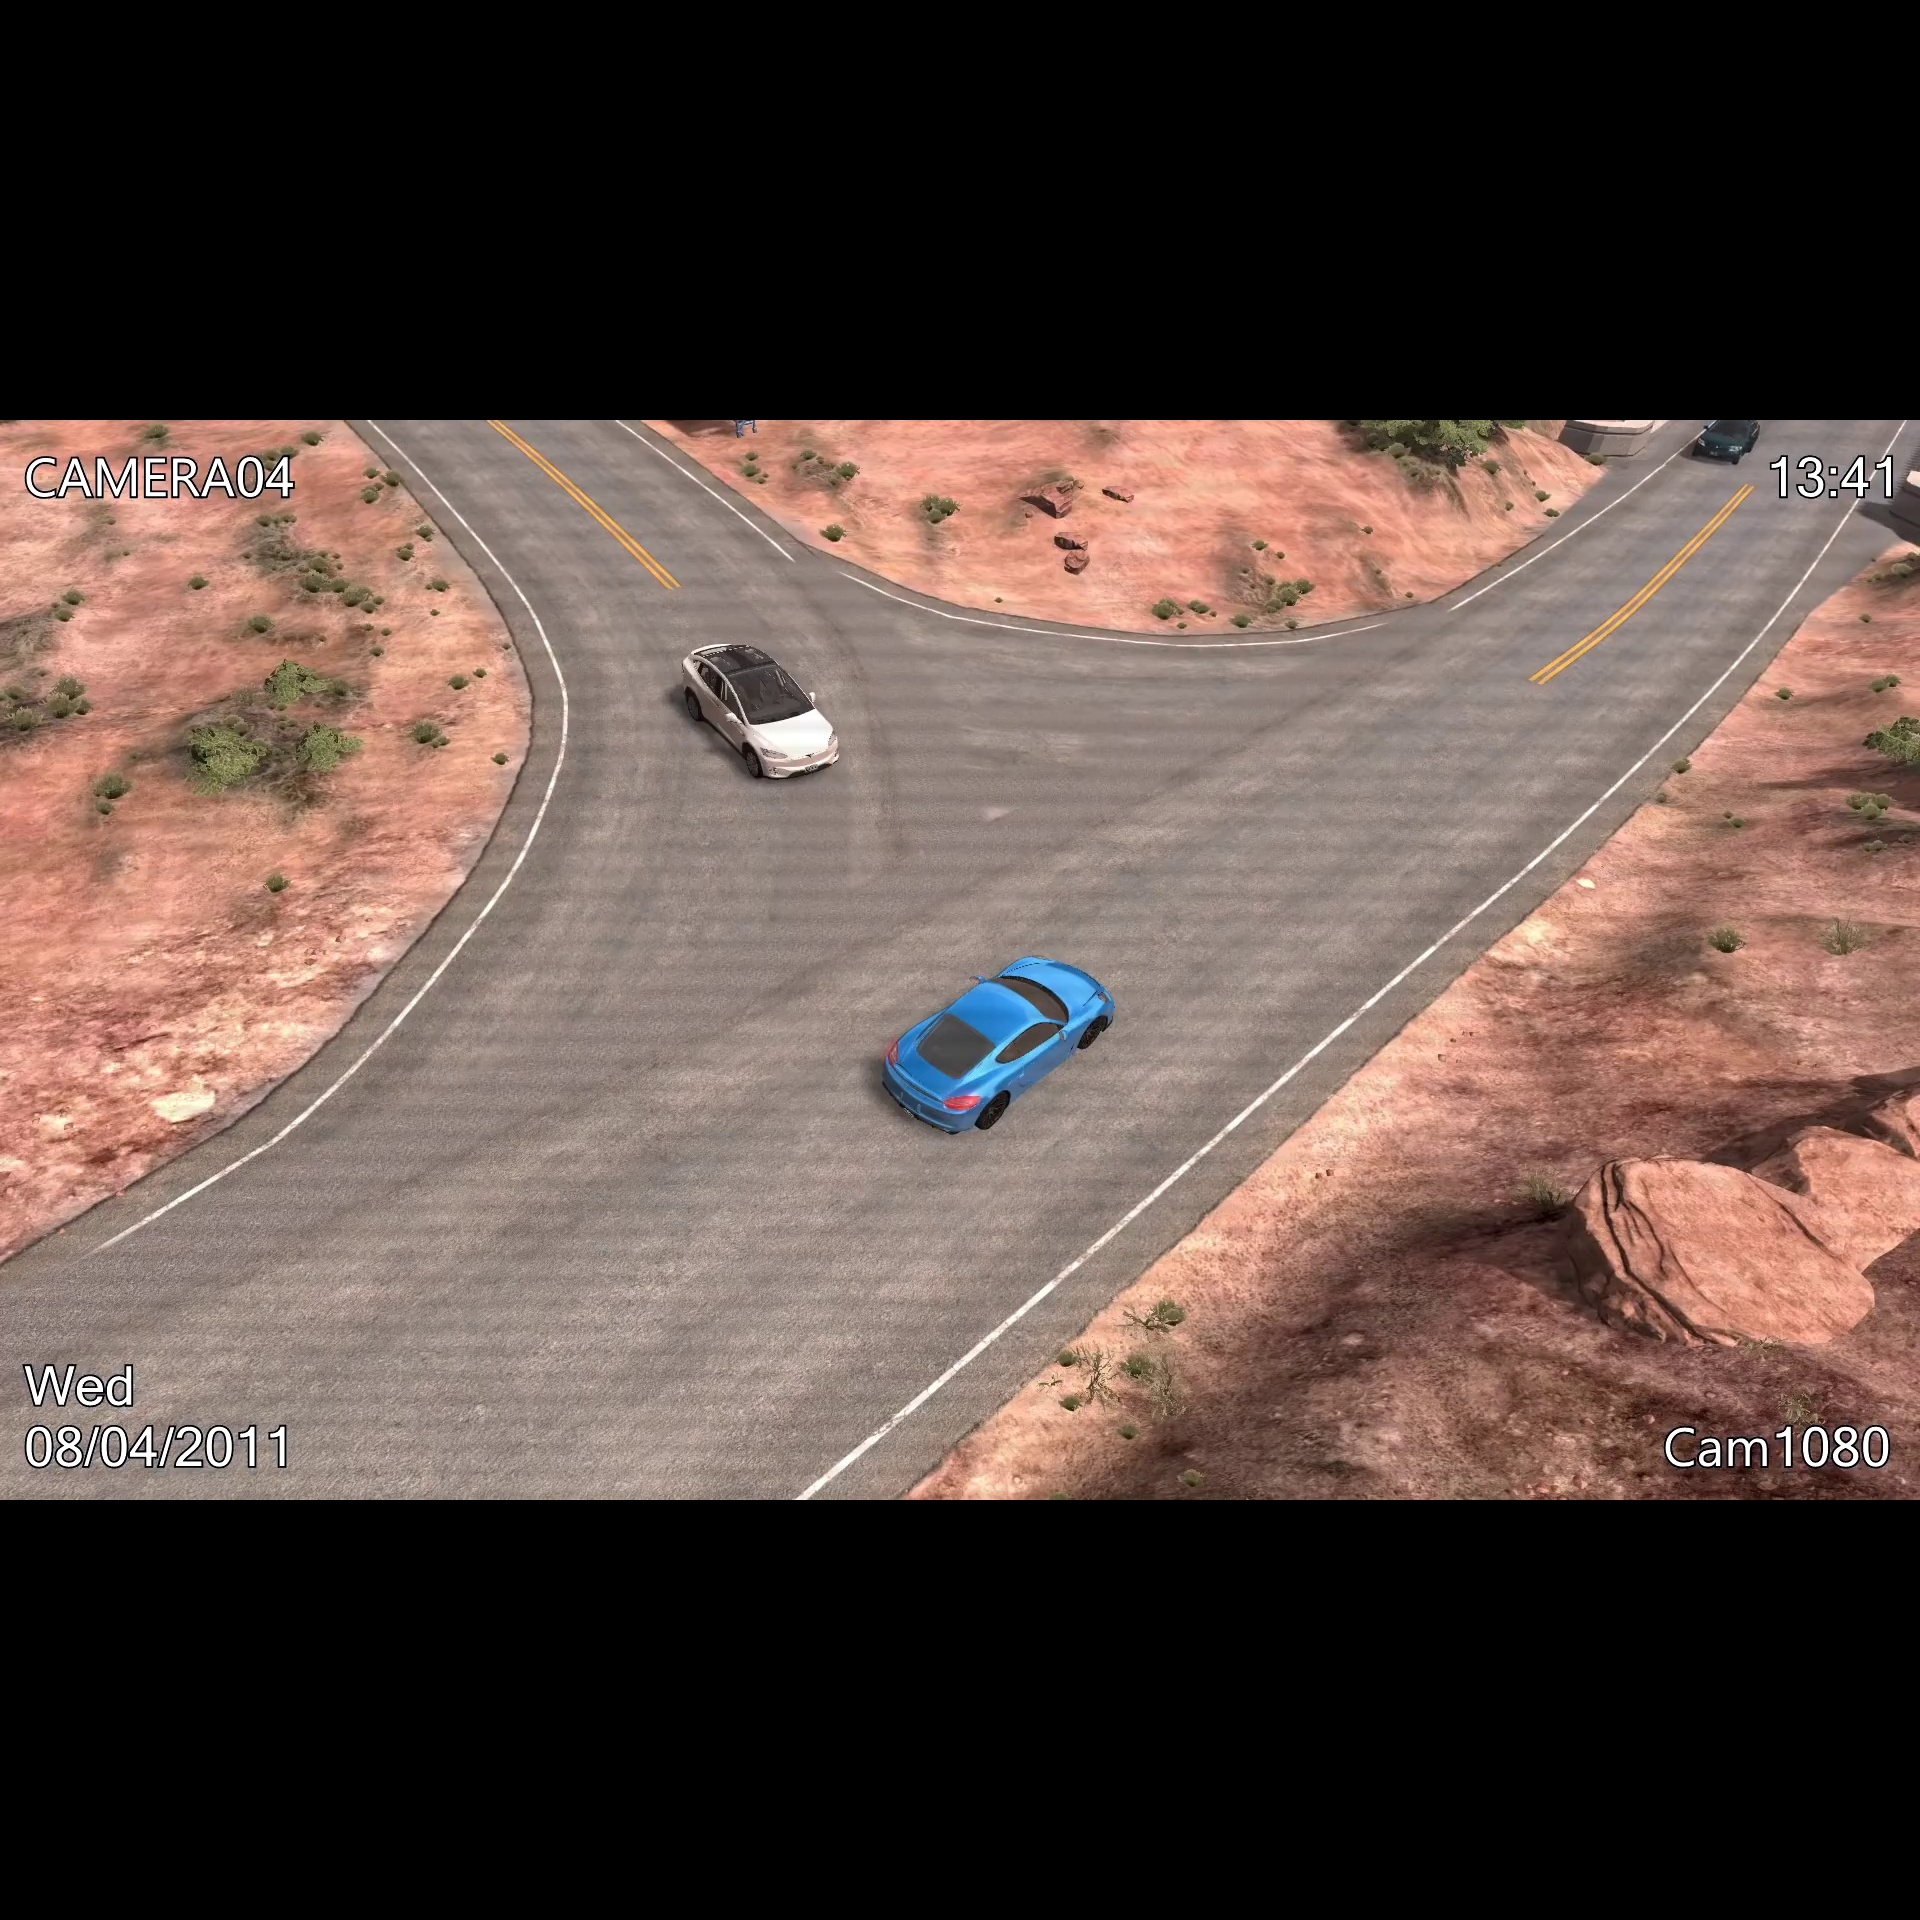vehicle: (865, 948, 1120, 1143), (668, 635, 849, 789), (1683, 420, 1765, 469)
